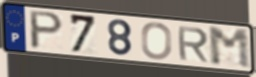7: (69, 13, 98, 55)
8: (106, 18, 134, 57)
M: (206, 26, 253, 70)
O: (140, 21, 174, 61)
P: (29, 10, 66, 51)
R: (175, 25, 210, 64)
